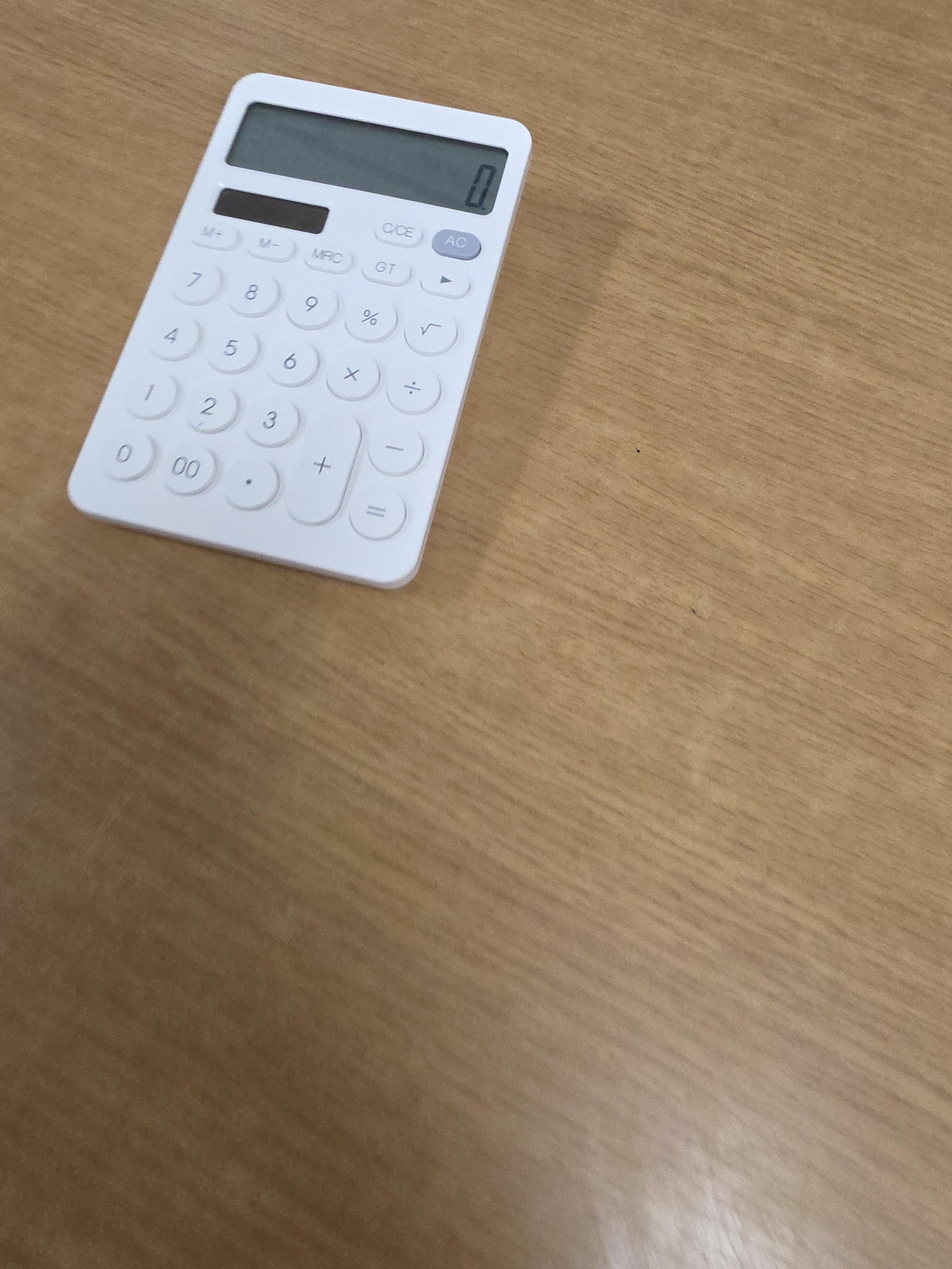calculator: (66, 72, 533, 588)
